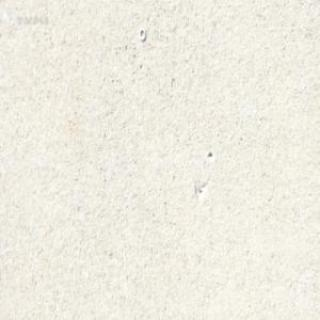Washertrack_idkeyframe: (138, 25, 146, 39)
